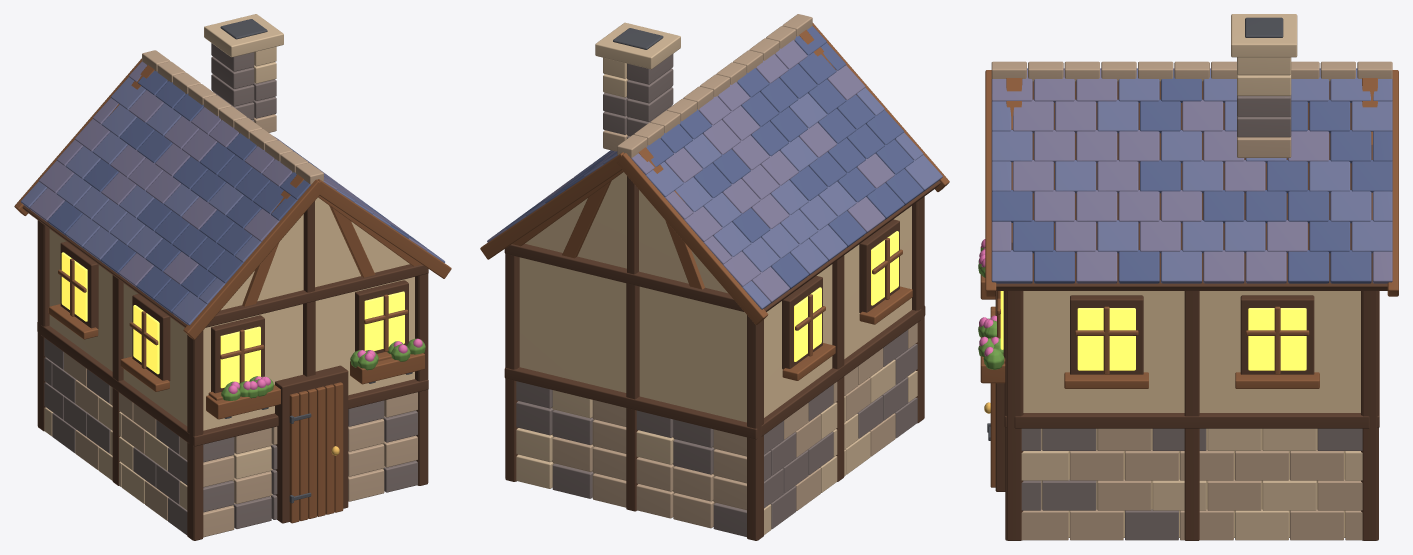
The model's file is ashwick-medium-residence.meshopt.glb.
3 views of the same model, side by side, from view 1: azimuth 30°, elevation 25°; view 2: azimuth 150°, elevation 25°; view 3: azimuth 270°, elevation 25° (orthographic). The views are drawn at different scales.
Visible parts, largest first — view 1: Overlapping slate courses.003, Limewashed walls.001, Overlapping slate courses.004, Overlapping slate courses.005, Foundation ashlar.003, Door planks.001, Side foundation.003, Gable infill.001, Leaded windows.004, Side posts.001, Carved verge.001, Leaded windows.003 (+21 smaller); view 2: Limewashed walls.001, Overlapping slate courses.003, Overlapping slate courses.004, Overlapping slate courses.005, Foundation ashlar.003, Frame posts.001, Side foundation.003, Foundation ashlar.004, Tie beams.001, Gable infill.001, Side posts.001, Carved verge.001 (+16 smaller); view 3: Overlapping slate courses.004, Limewashed walls.001, Overlapping slate courses.005, Overlapping slate courses.003, Side foundation.004, Side posts.001, Side foundation.005, Side foundation.003, Leaded windows.004, Ridge caps.001, Roof decking.001, Side rails.001 (+14 smaller).
Boxes of the visible parts, x1,y1,x2,y2 form: Overlapping slate courses.003: (47,70,426,313); Limewashed walls.001: (49,229,414,505); Overlapping slate courses.004: (29,61,426,287); Overlapping slate courses.005: (20,77,444,325); Foundation ashlar.003: (203,392,417,537); Door planks.001: (289,382,343,523); Side foundation.003: (44,338,187,535); Gable infill.001: (221,197,409,310); Leaded windows.004: (61,252,404,388); Side posts.001: (37,220,428,540); Carved verge.001: (14,58,451,339); Leaded windows.003: (60,241,408,393); Limewashed walls.001: (519,206,911,503); Overlapping slate courses.003: (497,26,923,289); Overlapping slate courses.004: (487,40,894,303); Overlapping slate courses.005: (506,87,942,309); Foundation ashlar.003: (552,400,746,528); Frame posts.001: (505,202,917,540); Side foundation.003: (764,330,917,529); Foundation ashlar.004: (516,381,746,536); Tie beams.001: (504,244,925,439); Gable infill.001: (525,172,727,293); Side posts.001: (505,196,924,540); Carved verge.001: (480,23,949,324); Overlapping slate courses.004: (991,68,1392,283); Limewashed walls.001: (1023,291,1360,537); Overlapping slate courses.005: (991,69,1392,283); Overlapping slate courses.003: (991,68,1392,283); Side foundation.004: (1021,428,1362,540); Side posts.001: (1007,291,1377,540); Side foundation.005: (1021,428,1362,540); Side foundation.003: (1021,428,1362,540); Leaded windows.004: (1000,291,1306,370); Ridge caps.001: (991,61,1392,81); Roof decking.001: (996,82,1387,290); Side rails.001: (1014,413,1369,428).
Bounding box in the file's own units: 4.29 × 6.13 × 4.97.
